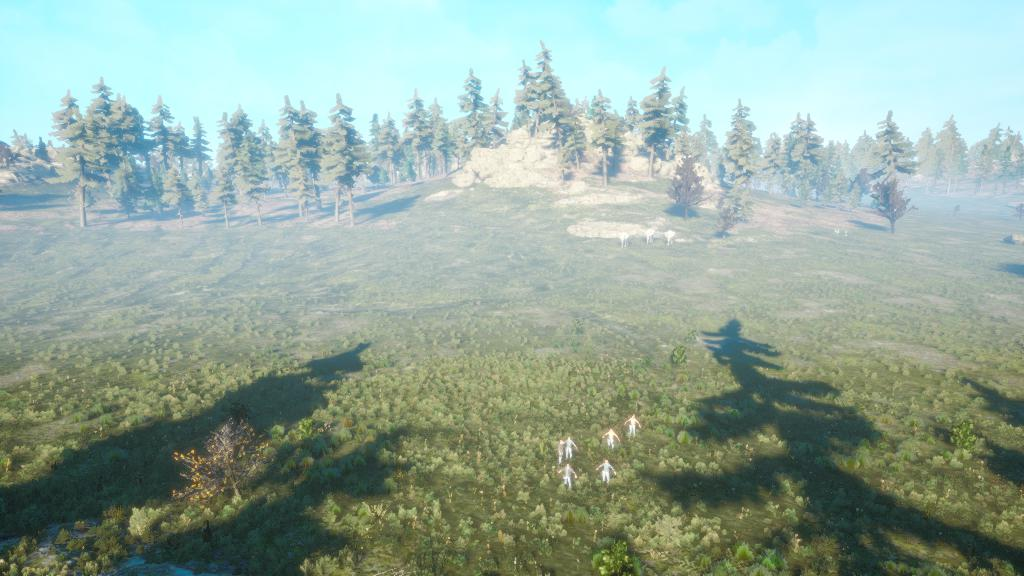elephant: (611, 217, 634, 260), (661, 222, 683, 257), (643, 217, 660, 254)
human: (549, 458, 585, 500), (591, 454, 623, 493), (619, 410, 655, 444), (555, 427, 584, 464), (598, 423, 626, 457)
